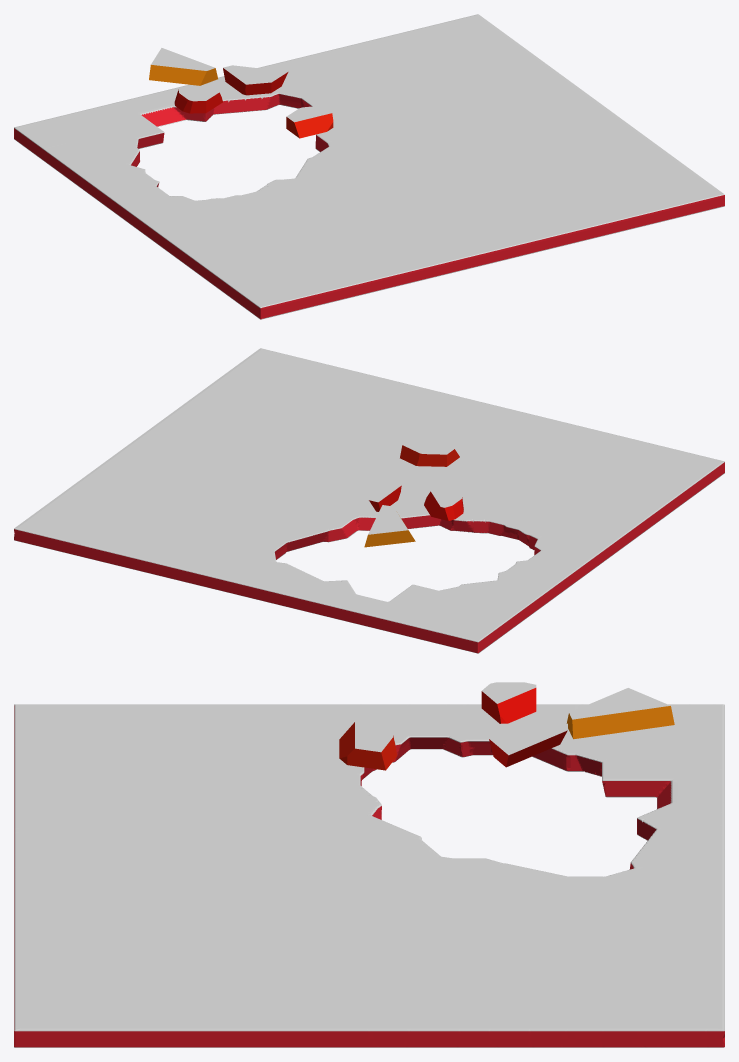
The model's file is RoofDebris 2.fbx.
The picture shows the model from 3 angles, top to bottom: view 1: azimuth 30°, elevation 25°; view 2: azimuth 150°, elevation 25°; view 3: azimuth 270°, elevation 25°; orthographic projection. The views are drawn at different scales.
Visible parts, largest first — view 1: BrokenRoof, Cube_cell.037, Cube_cell.087, Cube_cell.019, Cube_cell.096; view 2: BrokenRoof, Cube_cell.037, Cube_cell.019, Cube_cell.087, Cube_cell.096; view 3: BrokenRoof, Cube_cell.037, Cube_cell.087, Cube_cell.019, Cube_cell.096.
Boxes of the visible parts, x1,y1,x2,y2 form: BrokenRoof: [14, 14, 724, 319]; Cube_cell.037: [149, 48, 217, 85]; Cube_cell.087: [223, 65, 288, 95]; Cube_cell.019: [286, 105, 333, 138]; Cube_cell.096: [174, 88, 222, 113]; BrokenRoof: [14, 348, 724, 653]; Cube_cell.037: [364, 505, 415, 547]; Cube_cell.019: [400, 439, 459, 466]; Cube_cell.087: [354, 476, 401, 511]; Cube_cell.096: [424, 491, 463, 520]; BrokenRoof: [14, 704, 724, 1047]; Cube_cell.037: [566, 688, 674, 739]; Cube_cell.087: [489, 723, 567, 767]; Cube_cell.019: [339, 722, 396, 770]; Cube_cell.096: [481, 682, 536, 723].
Size of the model in its own units: 7960 by 1210 by 7323.
